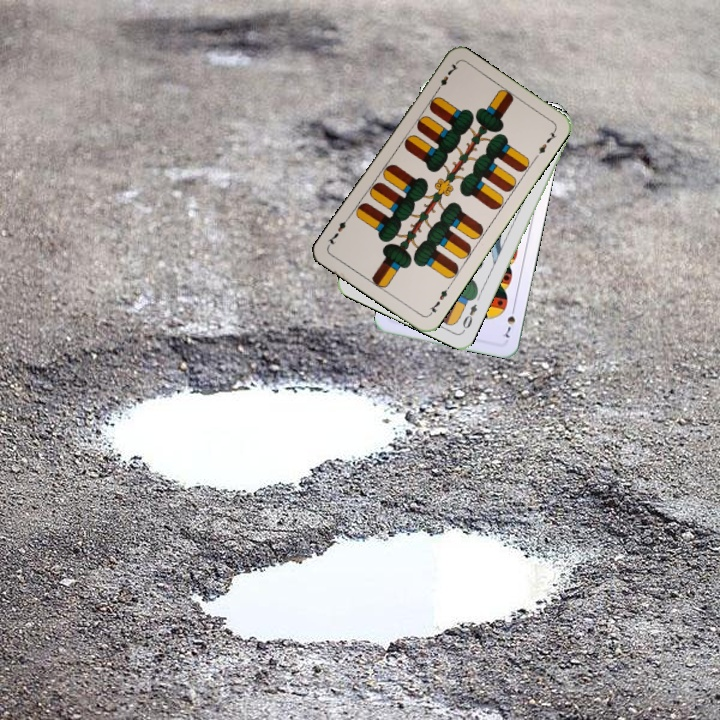E7: (432, 59, 461, 95), (425, 282, 452, 318)
EO: (459, 300, 480, 334)
S7: (498, 302, 518, 340)
